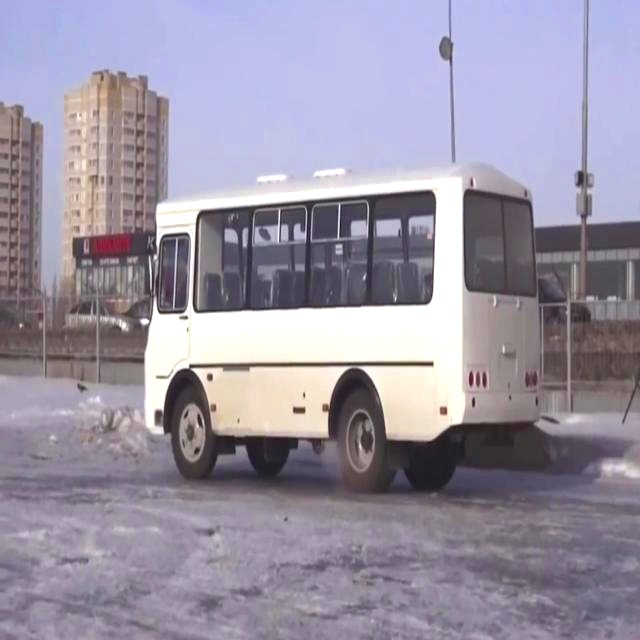bus: (105, 156, 590, 503)
